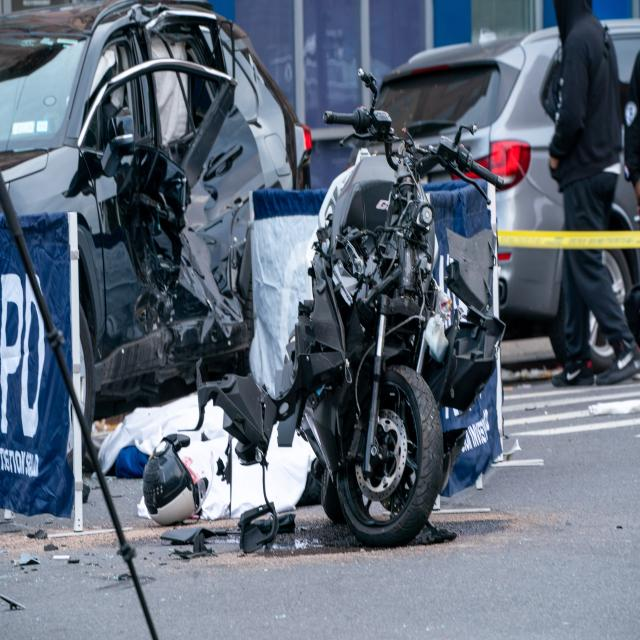Accident: (0, 0, 505, 550)
